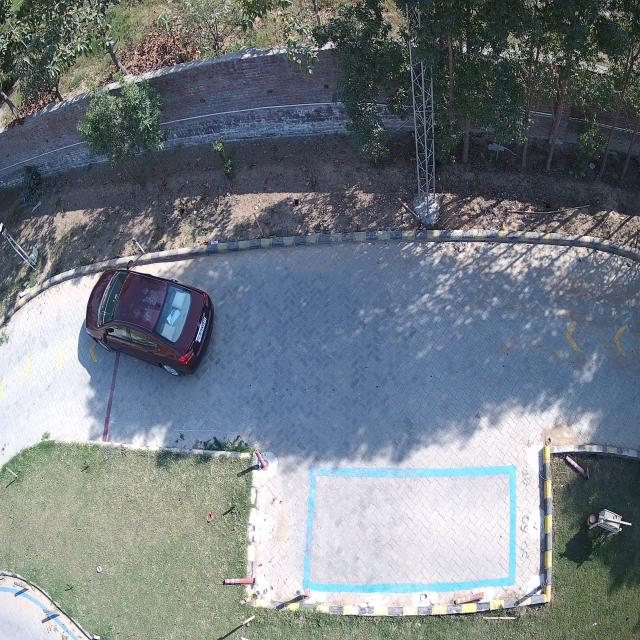car: (85, 268, 214, 377)
